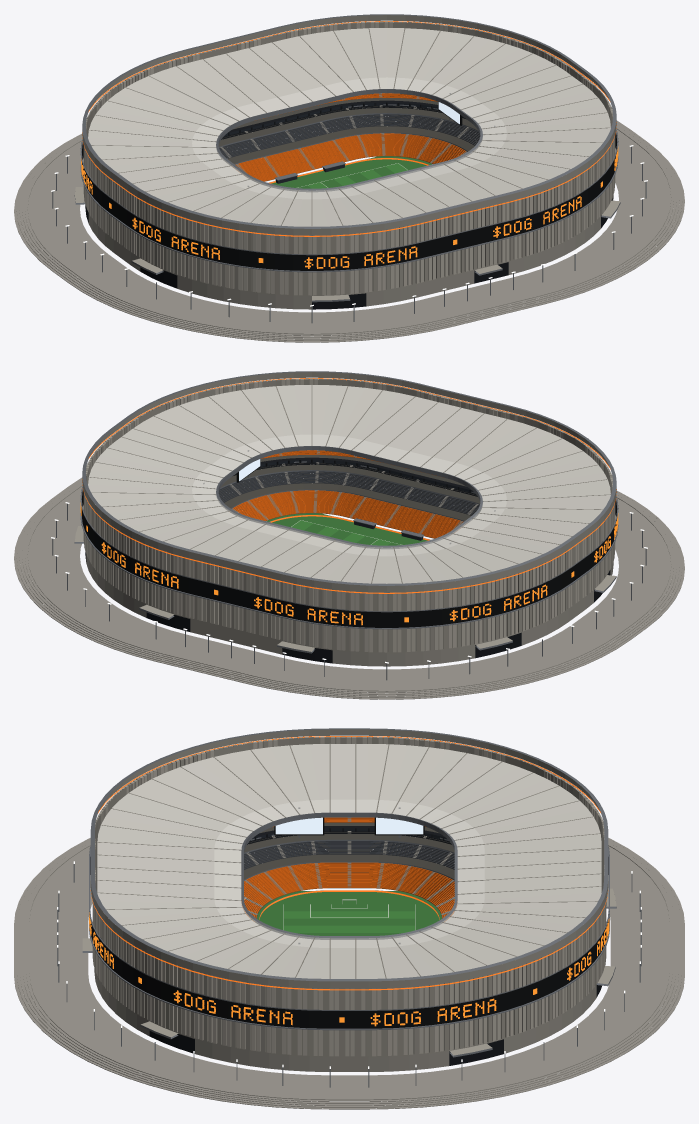
File: dog-arena.glb
3 renders of one model, top to bottom at view 1: azimuth 30°, elevation 25°; view 2: azimuth 150°, elevation 25°; view 3: azimuth 270°, elevation 25°, orthographic. The views are drawn at different scales.
Parts seen in each view (by area): view 1: DOG_ARENA, LETREIRO_FITA; view 2: DOG_ARENA, LETREIRO_FITA; view 3: DOG_ARENA, LETREIRO_FITA.
Part boxes in pixels (left/top/right/bottom): DOG_ARENA: left=14, top=14, right=684, bottom=342; LETREIRO_FITA: left=81, top=147, right=618, bottom=268; DOG_ARENA: left=14, top=371, right=684, bottom=699; LETREIRO_FITA: left=80, top=502, right=618, bottom=625; DOG_ARENA: left=14, top=728, right=684, bottom=1109; LETREIRO_FITA: left=89, top=912, right=609, bottom=1026.
Bounding box in the file's own units: 390 × 55.12 × 348.
